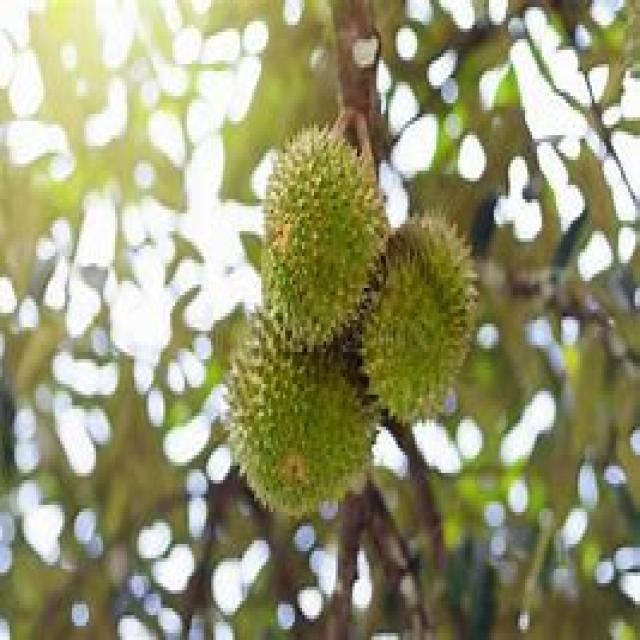immature: (223, 302, 386, 522), (258, 122, 390, 353), (358, 210, 478, 430)
